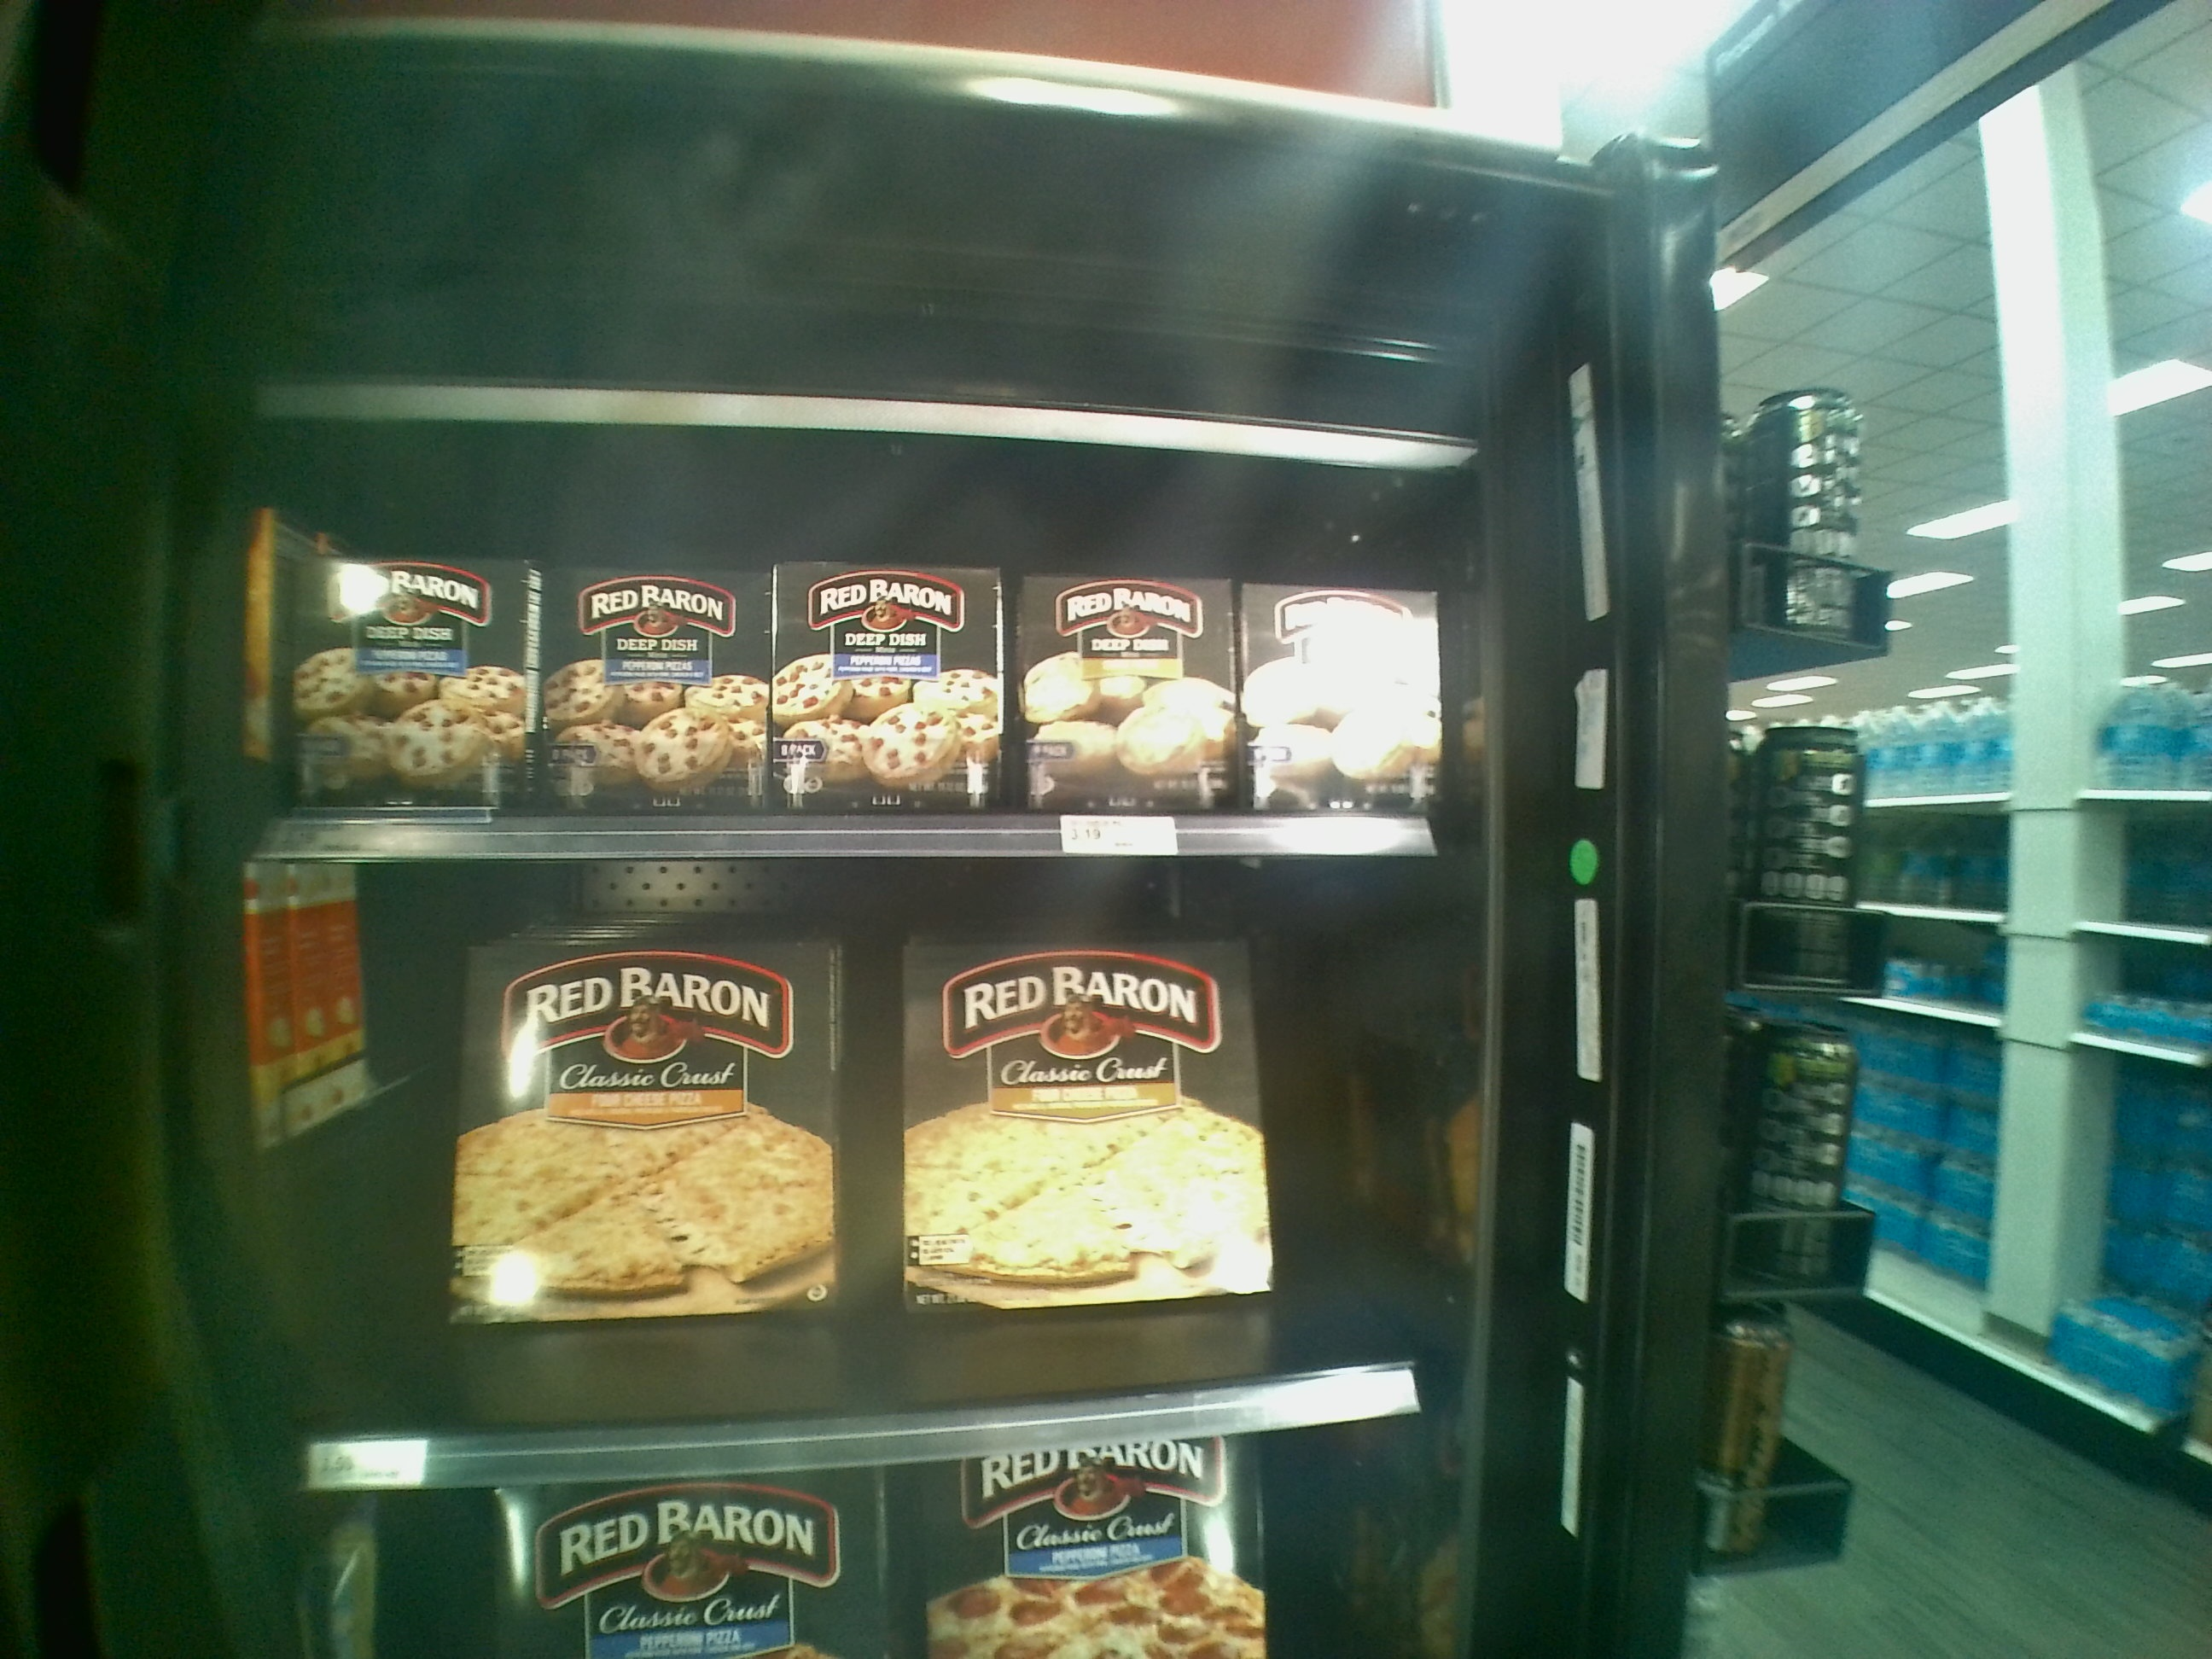shelf: (280, 861, 1468, 1476), (270, 437, 1467, 863)
